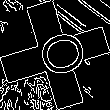O_W: (24, 27, 86, 83)
